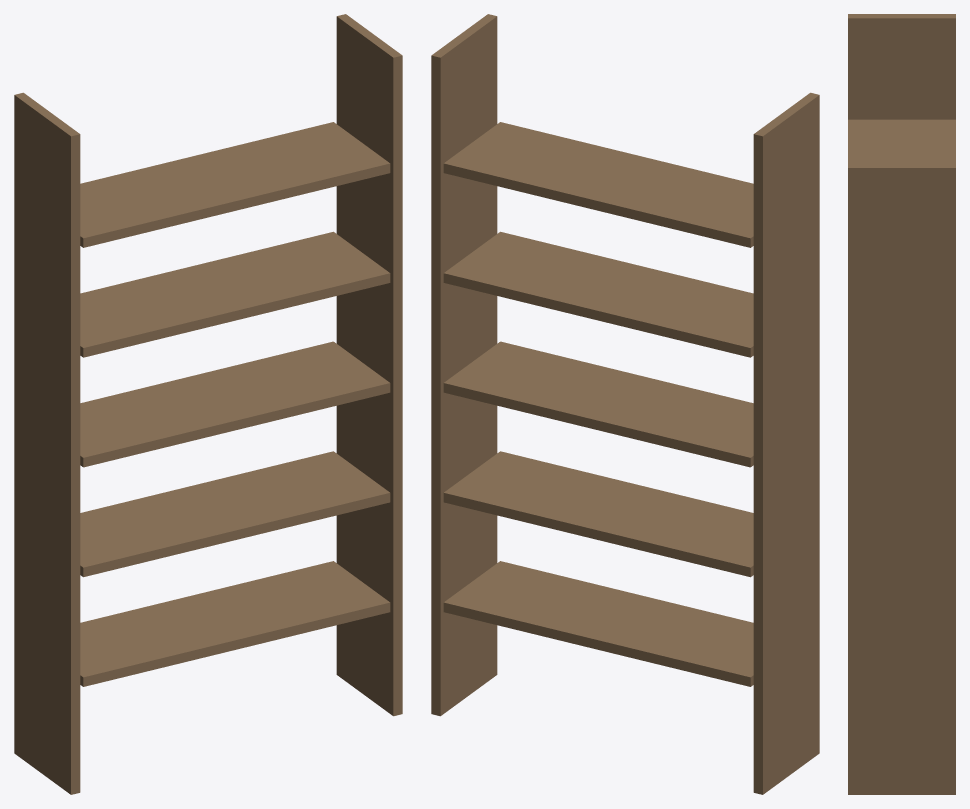
The model's file is bookshelf_02.glb.
3 renders of one model, left to right at view 1: azimuth 30°, elevation 25°; view 2: azimuth 150°, elevation 25°; view 3: azimuth 270°, elevation 25°, orthographic. The views are drawn at different scales.
Bounding box in the file's own units: 1.08 × 2.05 × 0.32.
